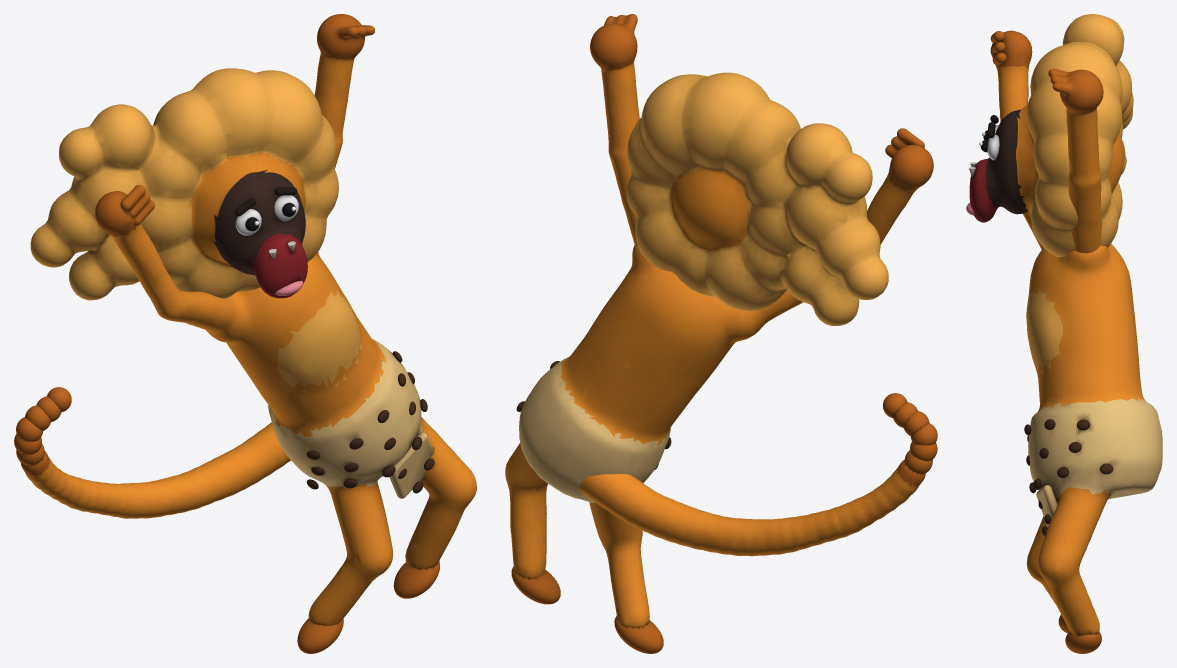
Rendered from jag-tar-den.glb.
The picture shows the model from 3 angles, left to right: view 1: azimuth 30°, elevation 25°; view 2: azimuth 150°, elevation 25°; view 3: azimuth 270°, elevation 25°; orthographic projection. The views are drawn at different scales.
Visible parts, largest first — view 1: cabeca__r0, mico__r0, rabo__r0, braco__r0, mico__r21, mico__r17, mico__r16; view 2: cabeca__r0, mico__r0, rabo__r0, braco__r0, mico__r17, mico__r16; view 3: mico__r0, cabeca__r0, braco__r0, mico__r17, mico__r21.
Part boxes in pixels (left/top/right/bottom): cabeca__r0: left=30, top=68, right=338, bottom=300; mico__r0: left=95, top=191, right=476, bottom=625; rabo__r0: left=20, top=422, right=290, bottom=518; braco__r0: left=314, top=14, right=374, bottom=168; mico__r21: left=389, top=432, right=433, bottom=498; mico__r17: left=393, top=561, right=439, bottom=598; mico__r16: left=297, top=618, right=343, bottom=653; cabeca__r0: left=626, top=72, right=888, bottom=325; mico__r0: left=505, top=144, right=933, bottom=627; rabo__r0: left=579, top=459, right=925, bottom=556; braco__r0: left=590, top=14, right=639, bottom=245; mico__r17: left=511, top=566, right=560, bottom=604; mico__r16: left=614, top=616, right=663, bottom=653; mico__r0: left=990, top=30, right=1162, bottom=636; cabeca__r0: left=969, top=14, right=1133, bottom=257; braco__r0: left=1048, top=68, right=1103, bottom=253; mico__r17: left=1065, top=631, right=1101, bottom=653; mico__r21: left=1036, top=485, right=1057, bottom=527.
Bounding box in the file's own units: 1.53 × 2.06 × 0.6348.
